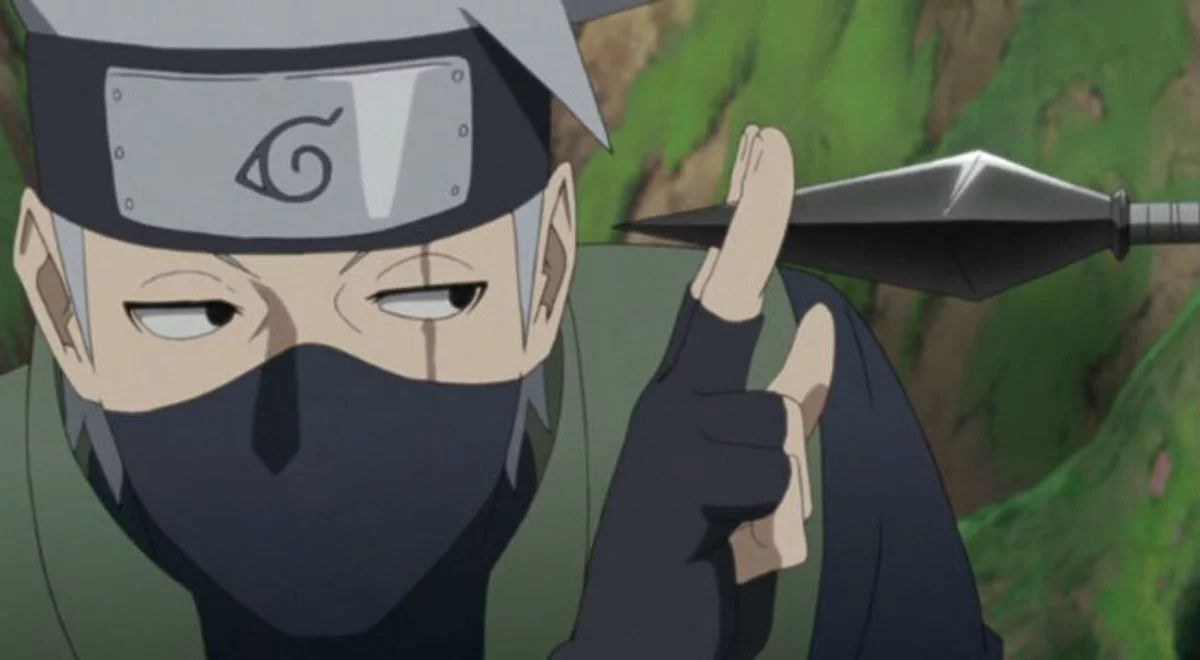kakashi: (9, 30, 579, 642)
